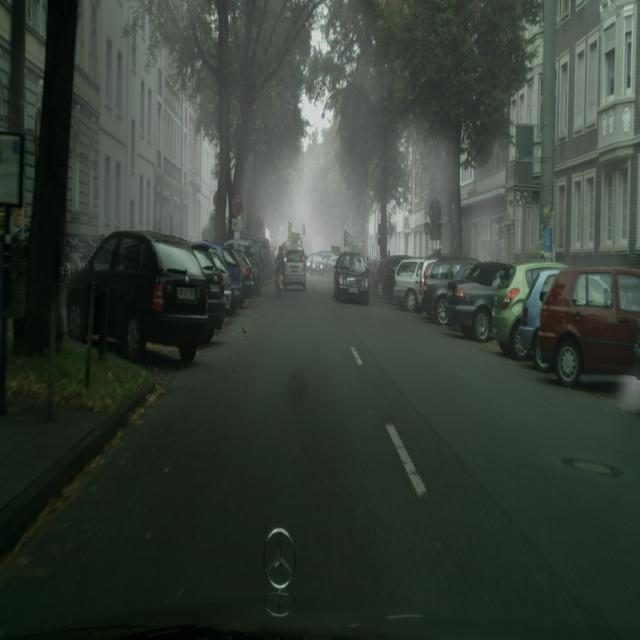truck: (66, 229, 212, 364), (534, 262, 640, 387), (492, 261, 568, 358), (442, 260, 509, 341), (514, 267, 565, 364), (421, 258, 478, 322), (193, 241, 242, 314), (191, 245, 227, 338), (226, 239, 263, 297), (333, 252, 370, 305), (392, 258, 424, 311), (228, 247, 255, 302), (277, 246, 307, 293), (380, 255, 408, 300), (241, 241, 263, 295), (320, 252, 338, 274), (307, 254, 324, 274)
